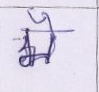au_matra: (32, 10, 60, 51)
